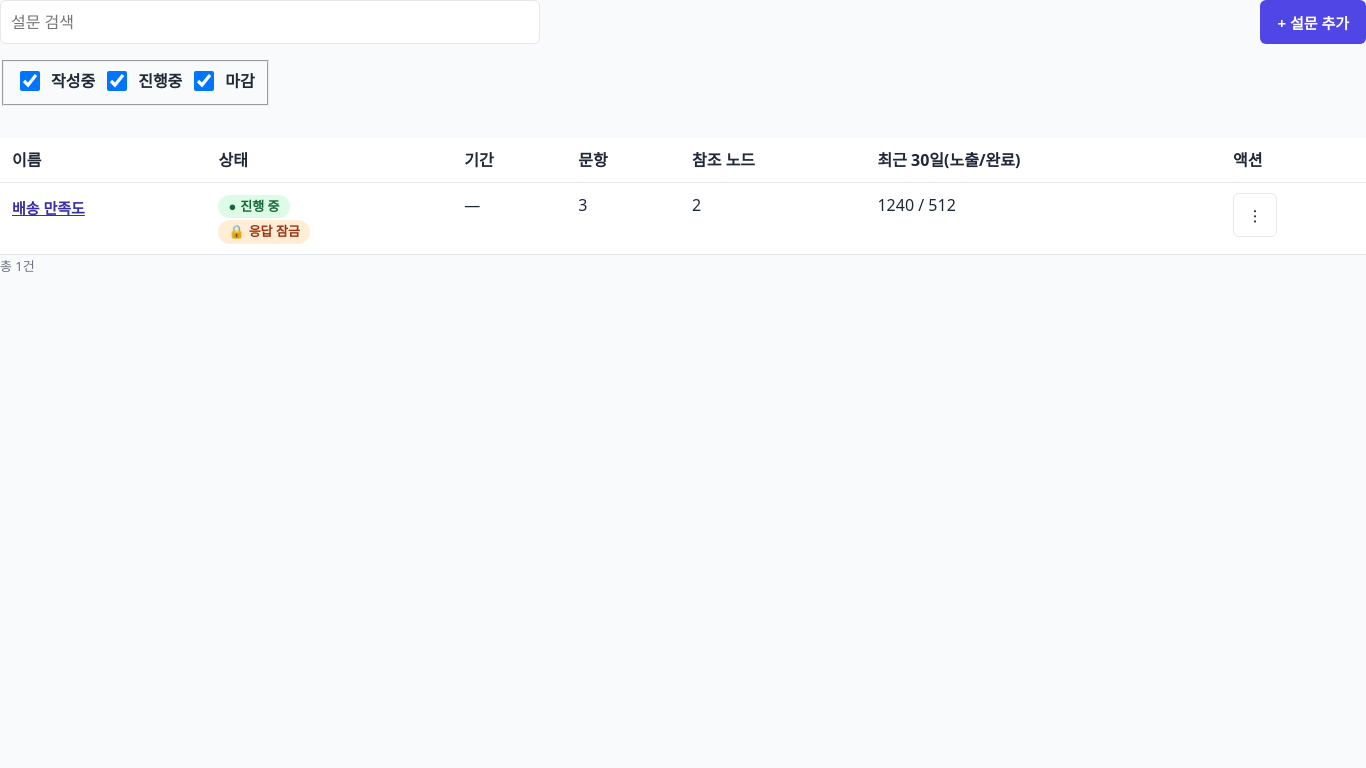
Test: SurveysListPage › 삭제가 409 SURVEY_HAS_RESPONSES로 거부되면 마감하기 대안 버튼이 표시된다
The width and height of the screenshot is (1366, 768).
Expected: the button "배송 만족도" is shown, [12,193,85,222]
Step 1. Click the button named "배송 만족도 관리" → [1255, 215], box [1233,193,1277,237]
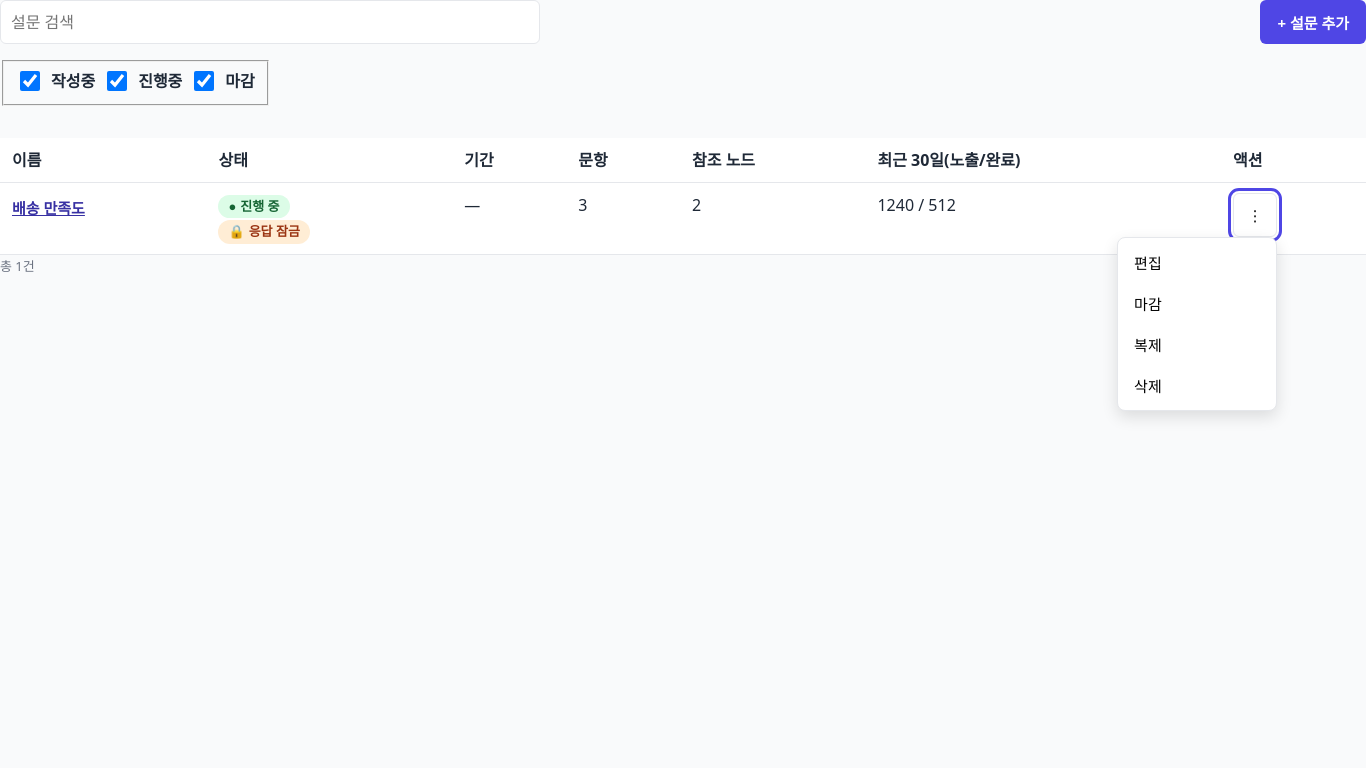
Step 2. Click the menu item "삭제" → [1197, 385], box [1122,365,1272,406]
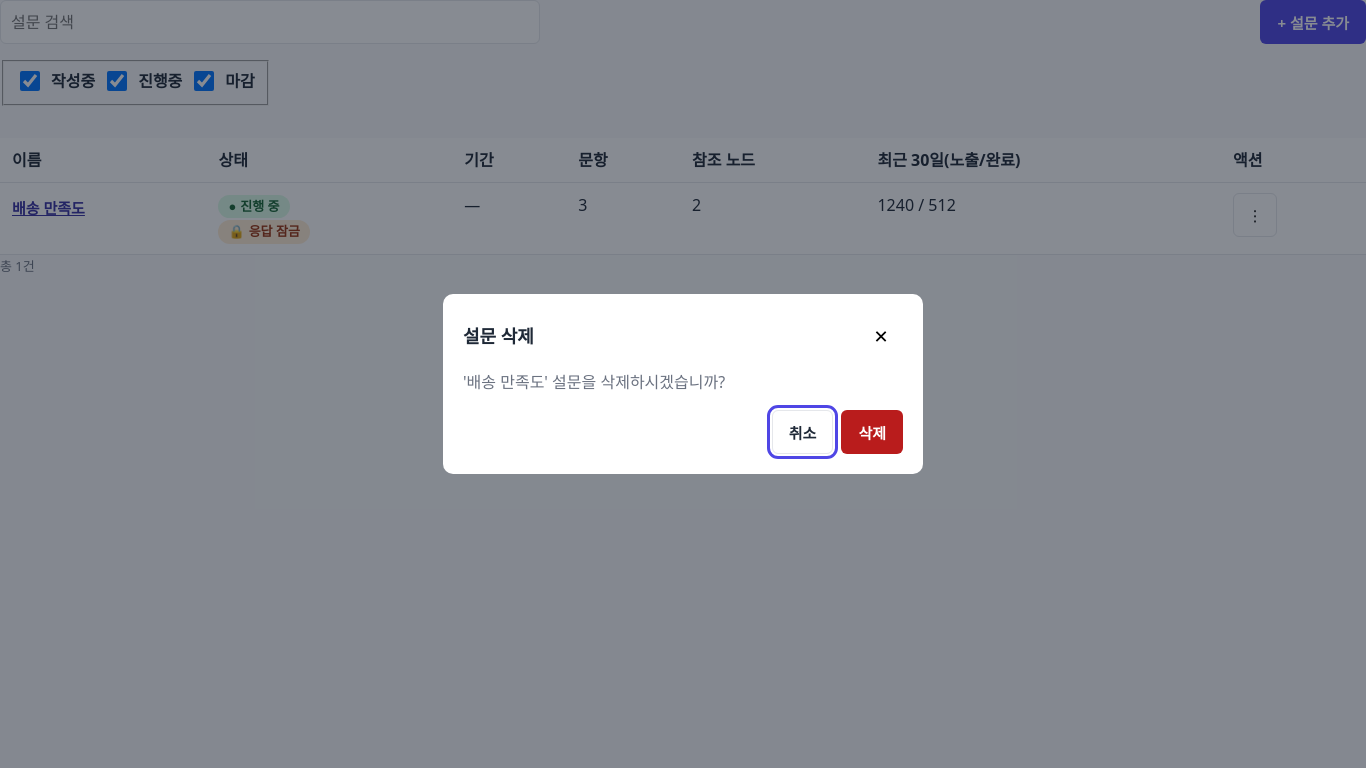
Step 3. Click the button "삭제" → [872, 432], box [841,410,903,454]
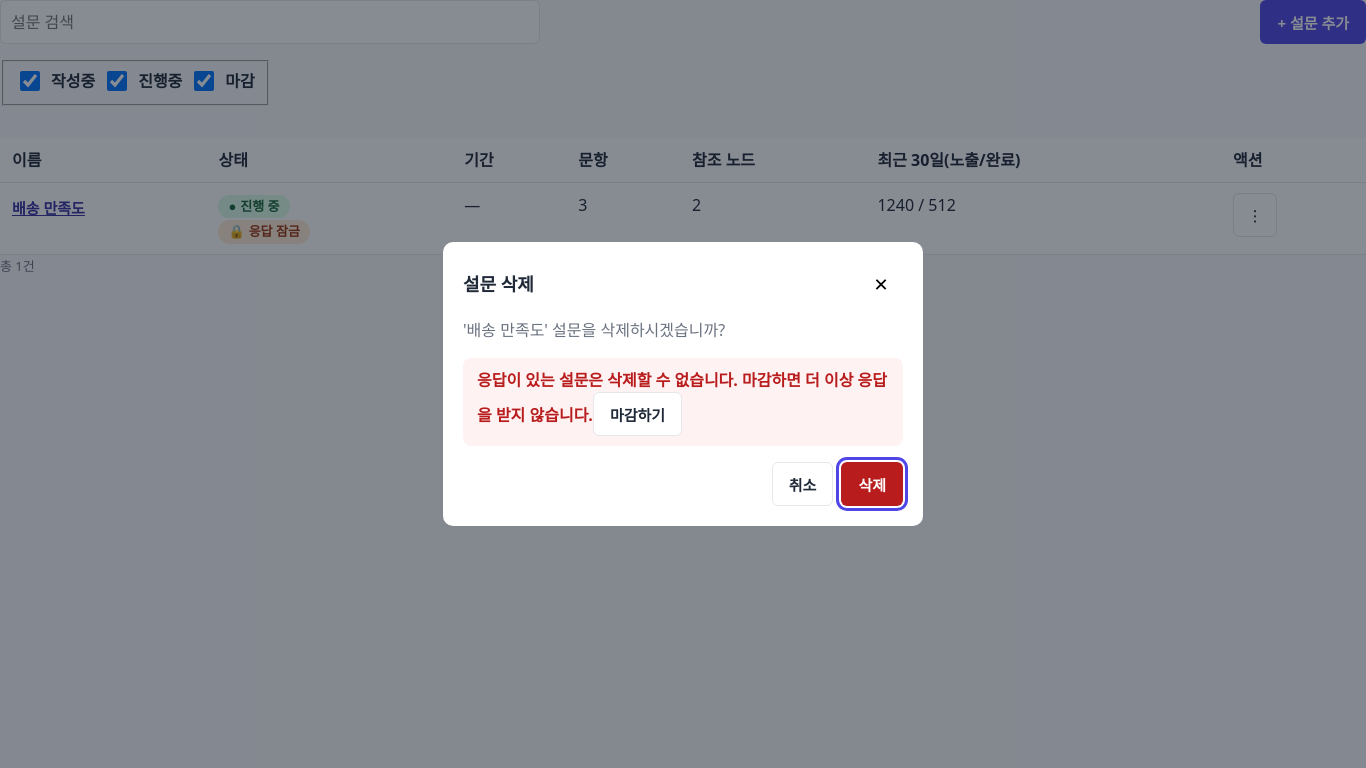
Expected: the text "응답이 있는 설문은 삭제할 수 없습니다. 마감하면 더 이상 응답을 받지 않습니다. 마감하기" is shown, [463,358,903,446]
Expected: the button "마감하기" is shown, [593,392,682,436]
